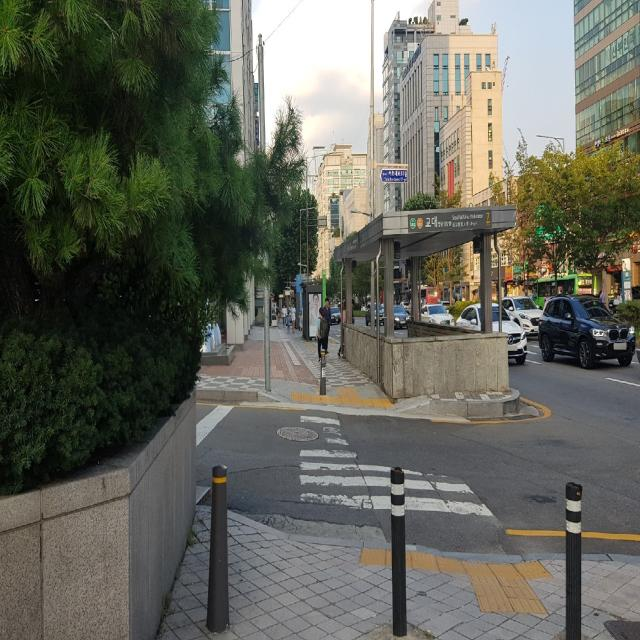횡단보도: (298, 414, 494, 516)
